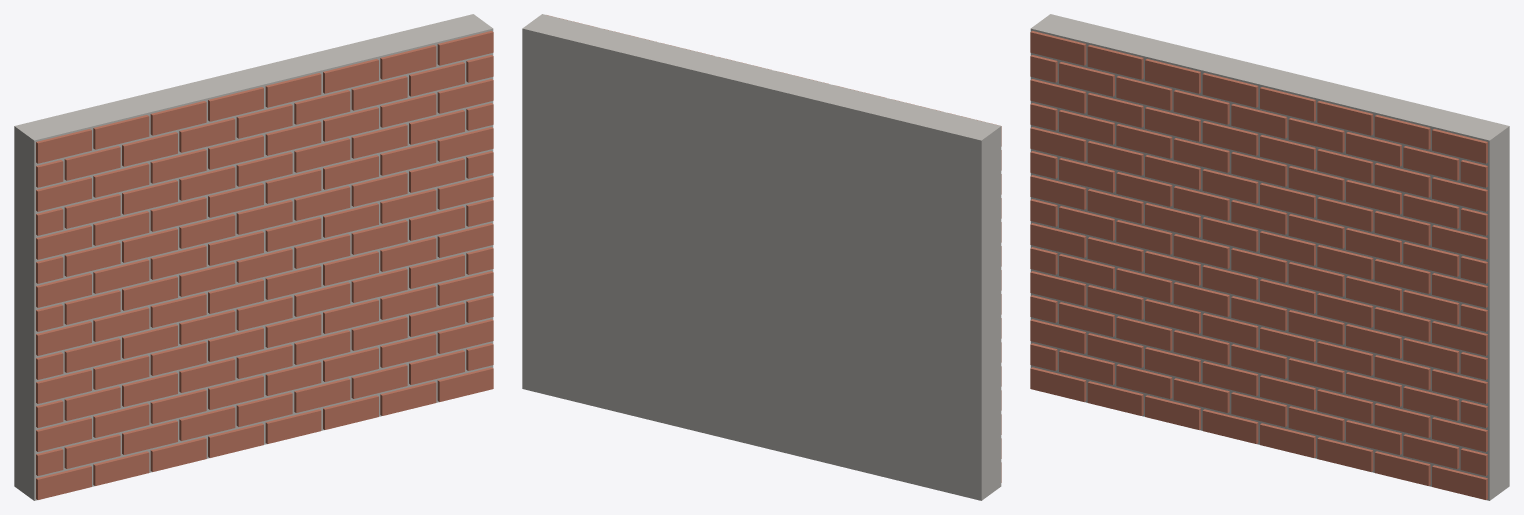
File: brick_wall.fbx
3 renders of one model, left to right at view 1: azimuth 30°, elevation 25°; view 2: azimuth 150°, elevation 25°; view 3: azimuth 330°, elevation 25°, orthographic.
Visible parts, largest first — view 1: BrickWall; view 2: BrickWall; view 3: BrickWall.
Boxes of the visible parts, x1,y1,x2,y2 form: BrickWall: (14, 14, 493, 500); BrickWall: (522, 14, 1001, 500); BrickWall: (1030, 14, 1509, 500).
Bounding box in the file's own units: 2080 × 1560 × 172.
